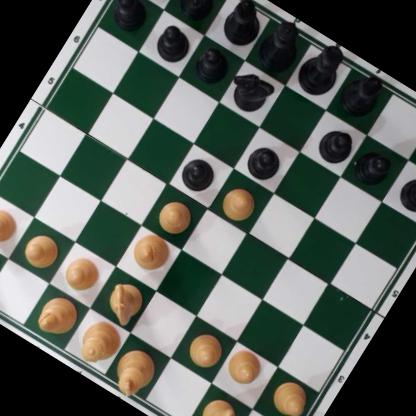black-bishop: (333, 63, 390, 125), (217, 0, 272, 51)
black-king: (292, 35, 354, 105)
black-knight: (225, 64, 277, 117), (171, 0, 230, 26)
black-pawn: (150, 19, 197, 67), (242, 139, 288, 186), (351, 143, 396, 190), (190, 42, 235, 88), (176, 152, 221, 197), (313, 123, 357, 168), (106, 0, 154, 36), (394, 169, 416, 219)
black-queen: (253, 14, 312, 77)
white-bishop: (33, 289, 83, 342), (127, 226, 176, 276)
white-king: (107, 342, 162, 402)
white-knight: (99, 276, 150, 329), (188, 391, 244, 416)
white-pawn: (58, 249, 106, 298), (182, 326, 228, 373), (222, 343, 268, 390), (19, 227, 65, 272), (217, 180, 262, 225), (153, 193, 198, 238), (267, 375, 315, 416), (0, 200, 24, 249)
white-queen: (71, 312, 127, 373)
white-rook: (0, 236, 2, 296)
